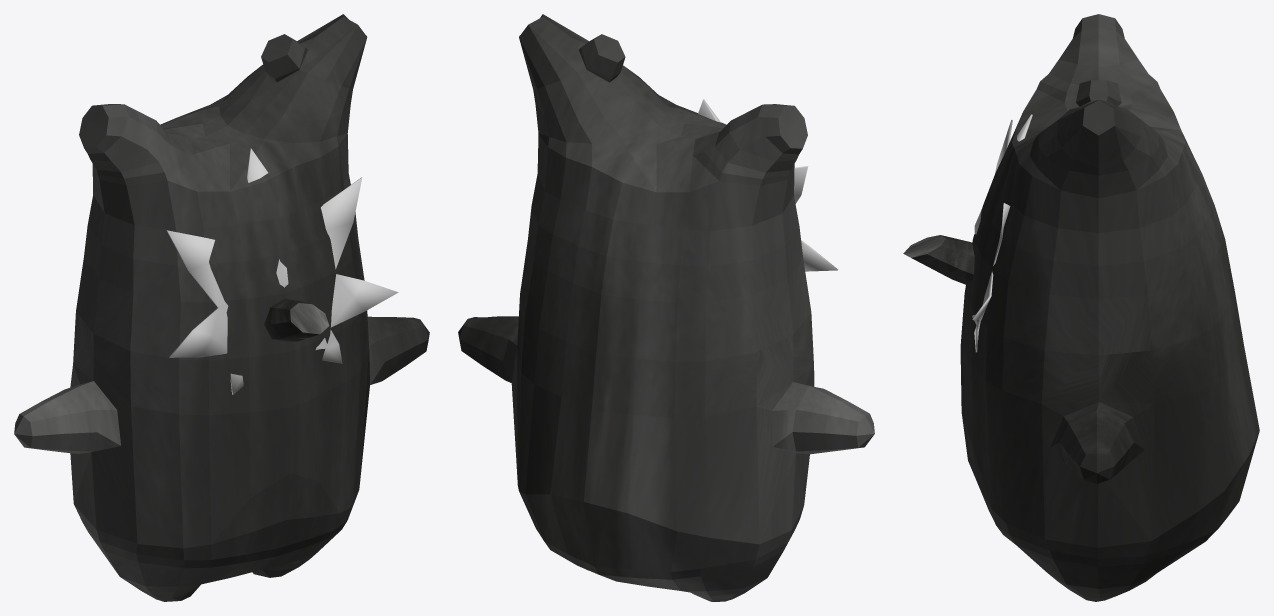
The model's file is frame_0014.obj.
3 views of the same model, side by side, from view 1: azimuth 30°, elevation 25°; view 2: azimuth 150°, elevation 25°; view 3: azimuth 270°, elevation 25° (orthographic).
Parts seen in each view (by area): view 1: korok, leaf, nose.003_柱体.011; view 2: korok, leaf; view 3: korok, nose.003_柱体.011, leaf.
Boxes of the visible parts, left/top/right/bottom form: korok: left=14, top=14, right=429, bottom=601; leaf: left=166, top=148, right=398, bottom=394; nose.003_柱体.011: left=264, top=298, right=329, bottom=341; korok: left=458, top=14, right=874, bottom=601; leaf: left=698, top=99, right=838, bottom=271; korok: left=960, top=14, right=1259, bottom=601; nose.003_柱体.011: left=903, top=235, right=974, bottom=286; leaf: left=972, top=114, right=1032, bottom=352.
Bounding box in the file's own units: 1.91 × 2.37 × 1.44.
